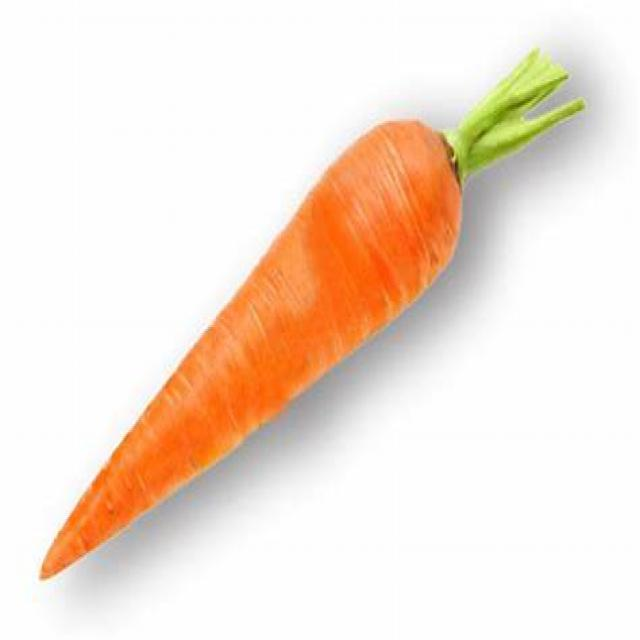Carrot: (41, 46, 590, 576)
